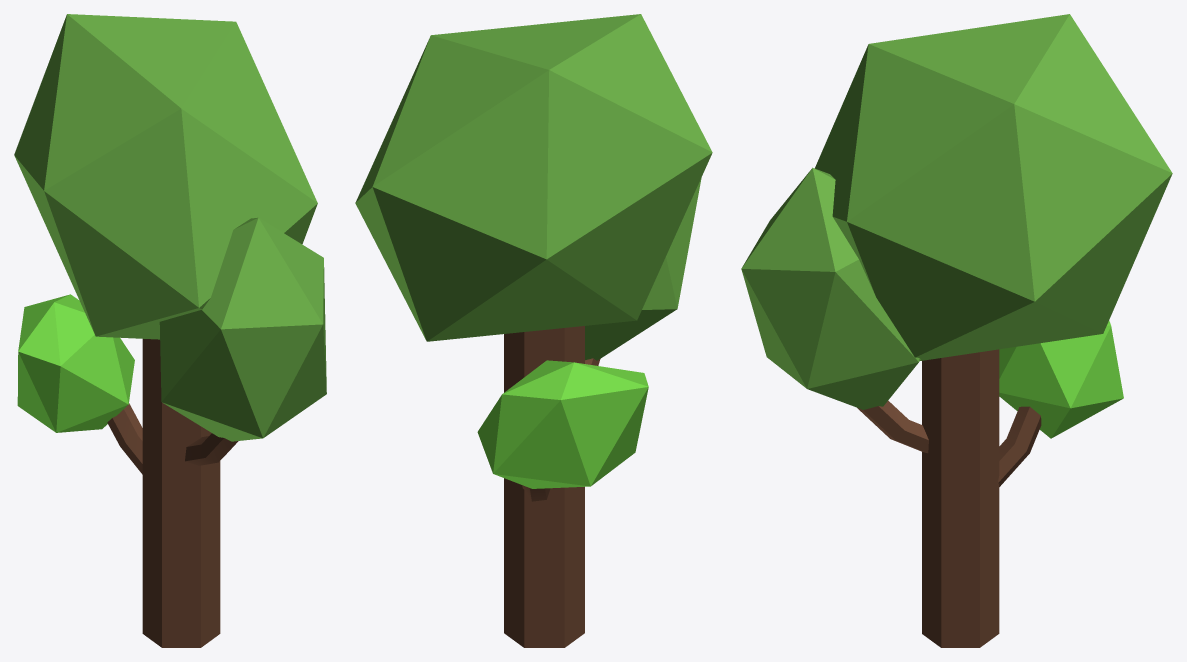
Rendered from tree2.fbx.
The picture shows the model from 3 angles, left to right: view 1: azimuth 30°, elevation 25°; view 2: azimuth 150°, elevation 25°; view 3: azimuth 270°, elevation 25°; orthographic projection. The views are drawn at different scales.
Parts seen in each view (by area): view 1: Tree.001; view 2: Tree.001; view 3: Tree.001.
Part boxes in pixels (x1,y1,x2,y2): Tree.001: (14, 14, 326, 647); Tree.001: (355, 14, 712, 647); Tree.001: (741, 14, 1172, 647).
Size of the model in its own units: 8.71 by 16.87 by 11.16.
